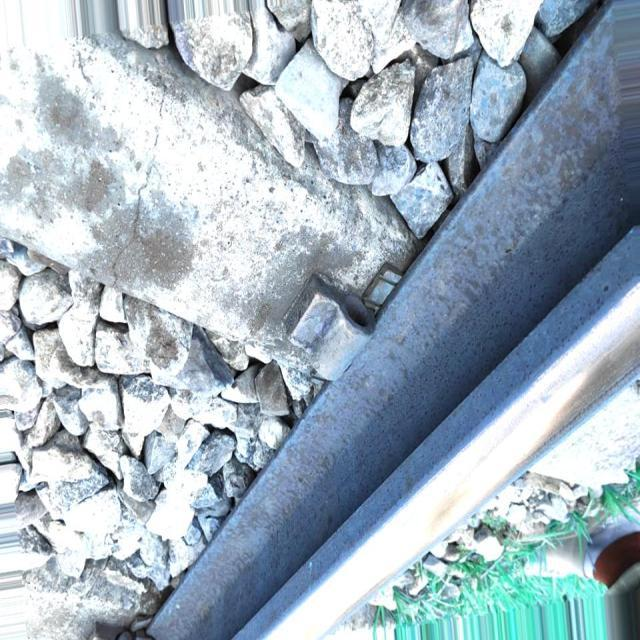Missing Fastener: (274, 266, 386, 393)
